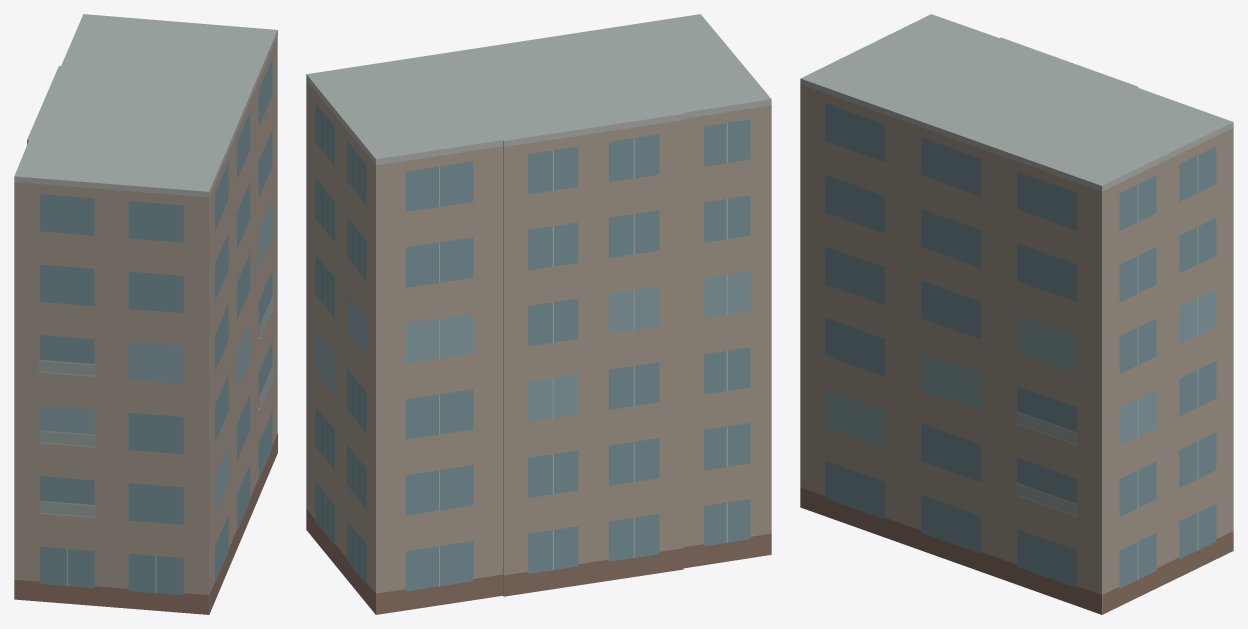
Rendered from survey-upis-32974450.glb.
The picture shows the model from 3 angles, left to right: view 1: azimuth 30°, elevation 25°; view 2: azimuth 150°, elevation 25°; view 3: azimuth 270°, elevation 25°; orthographic projection. The views are drawn at different scales.
Visible parts, largest first — view 1: survey-upis-32974450.tmp; view 2: survey-upis-32974450.tmp; view 3: survey-upis-32974450.tmp.
Part boxes in pixels (left/top/right/bottom): survey-upis-32974450.tmp: left=14, top=14, right=277, bottom=614; survey-upis-32974450.tmp: left=306, top=14, right=771, bottom=614; survey-upis-32974450.tmp: left=800, top=14, right=1233, bottom=614.
Size of the model in its own units: 15.75 by 18.3 by 16.76.
